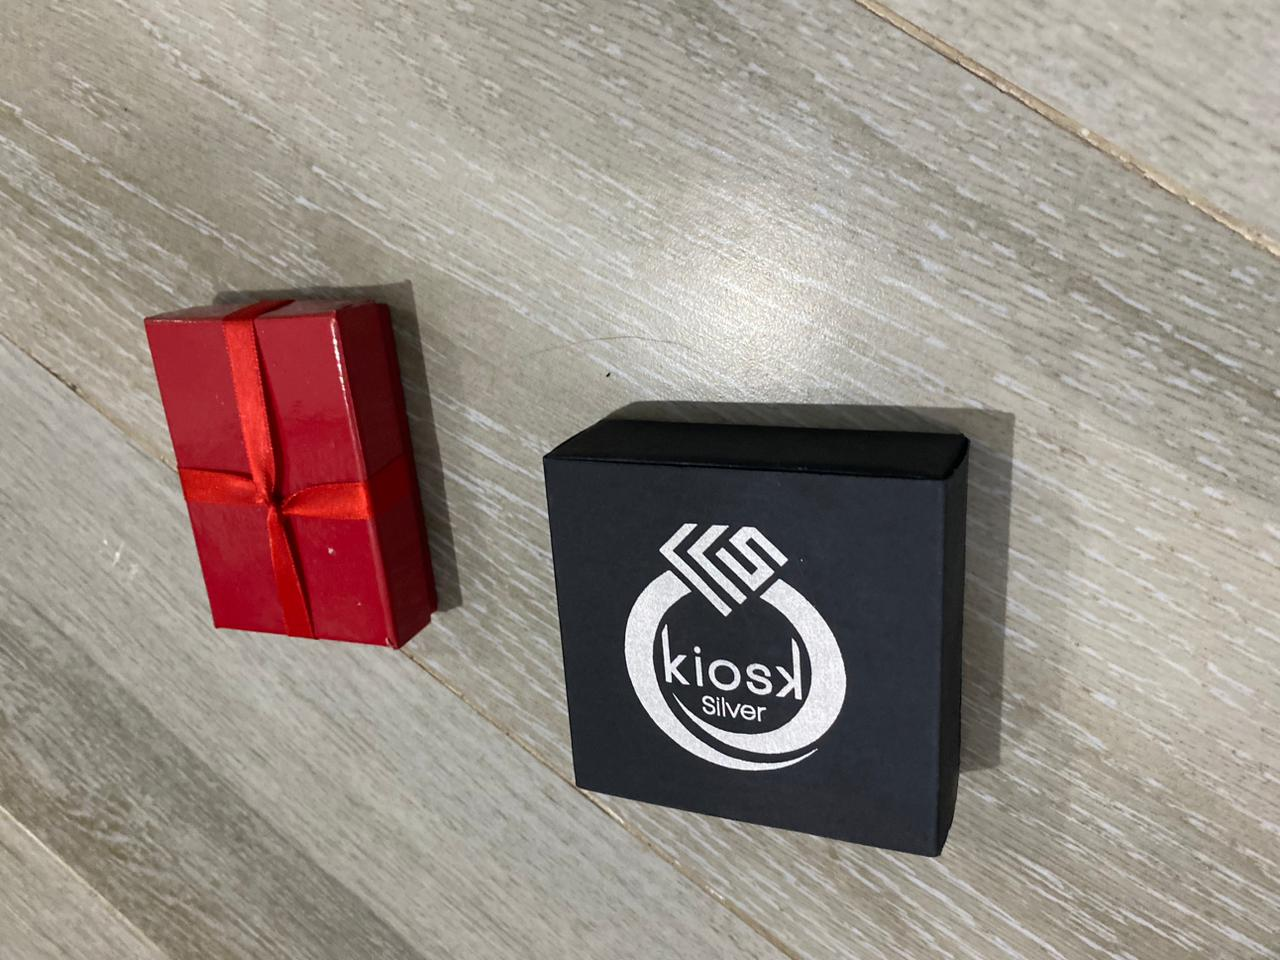Black Box: (140, 299, 437, 655)
Red Box: (536, 419, 970, 866)
